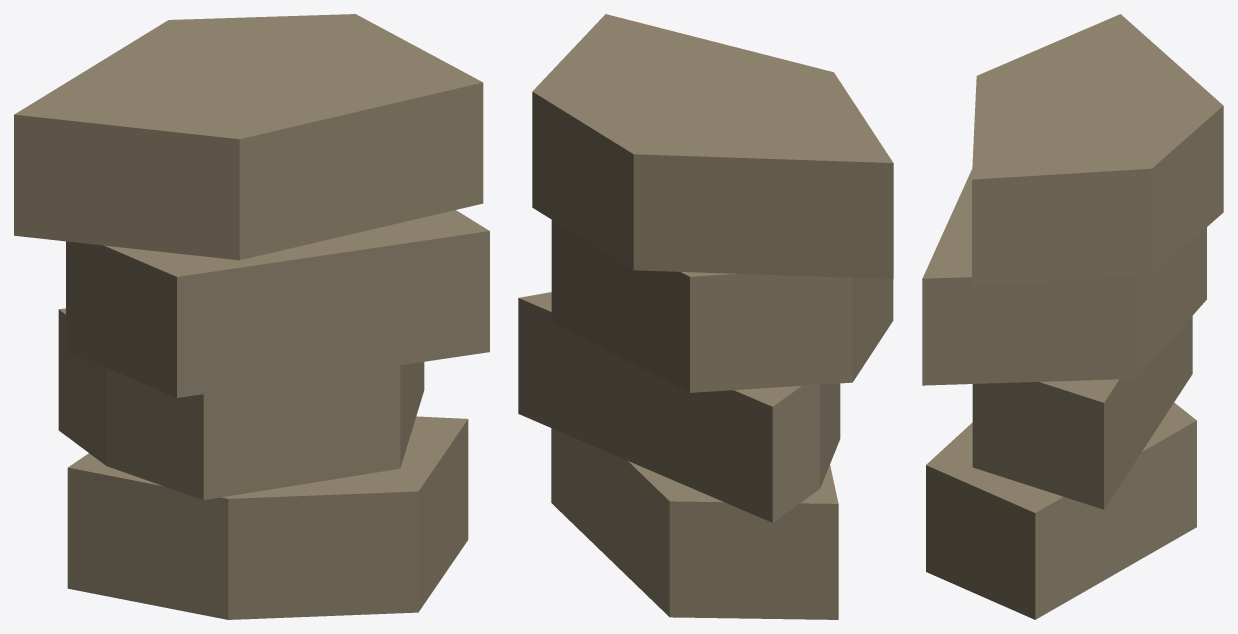
The model's file is 地形块A4.FBX.
The picture shows the model from 3 angles, left to right: view 1: azimuth 30°, elevation 25°; view 2: azimuth 150°, elevation 25°; view 3: azimuth 270°, elevation 25°; orthographic projection. The views are drawn at different scales.
Visible parts, largest first — view 1: 地形块A4; view 2: 地形块A4; view 3: 地形块A4.
Boxes of the visible parts, box(x1,y1,x2,y2) form: 地形块A4: box(14, 14, 489, 619); 地形块A4: box(518, 14, 893, 619); 地形块A4: box(922, 14, 1223, 619).
Size of the model in its own units: 2.72 by 3.13 by 1.98.
1 material, 1 textured.
